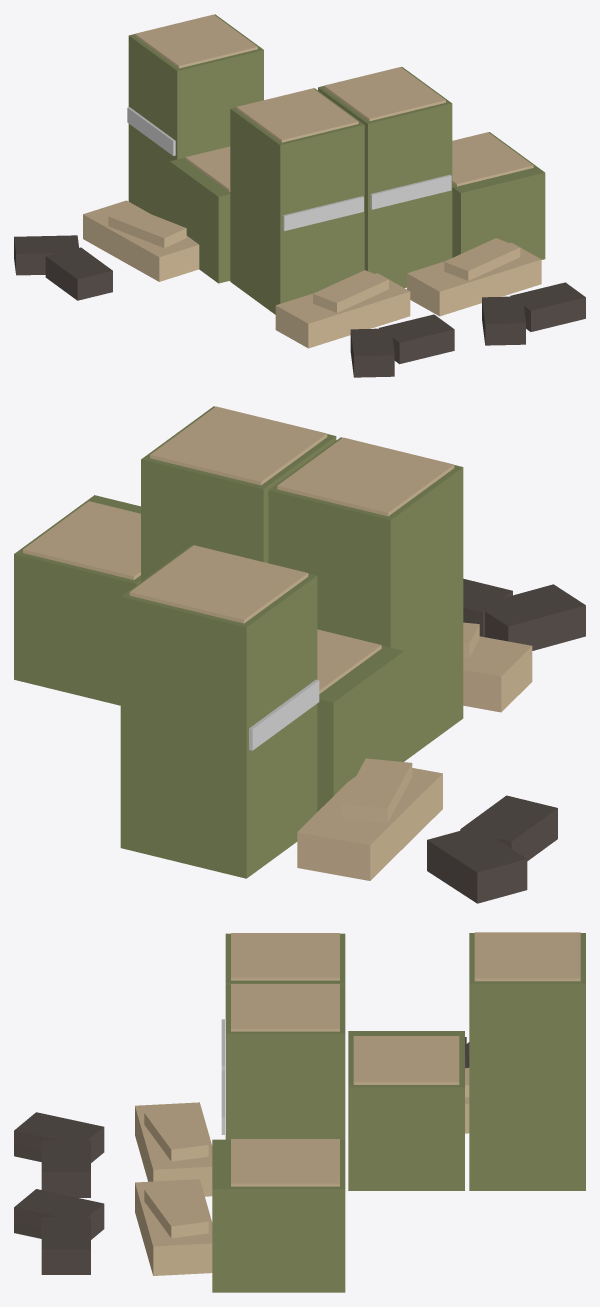
The model's file is SM_HescoEsquina_v0_MallaLimpia_e1_Danado_LOD1.fbx.
The picture shows the model from 3 angles, top to bottom: view 1: azimuth 30°, elevation 25°; view 2: azimuth 150°, elevation 25°; view 3: azimuth 270°, elevation 25°; orthographic projection. The views are drawn at different scales.
Parts seen in each view (by area): view 1: SM_hesco_piezas_v1_LOD1; view 2: SM_hesco_piezas_v1_LOD1; view 3: SM_hesco_piezas_v1_LOD1.
Boxes of the visible parts, x1,y1,x2,y2 form: SM_hesco_piezas_v1_LOD1: (14, 14, 585, 377); SM_hesco_piezas_v1_LOD1: (14, 406, 585, 903); SM_hesco_piezas_v1_LOD1: (14, 932, 585, 1292).
Size of the model in its own units: 5.25 by 2.13 by 5.25.
